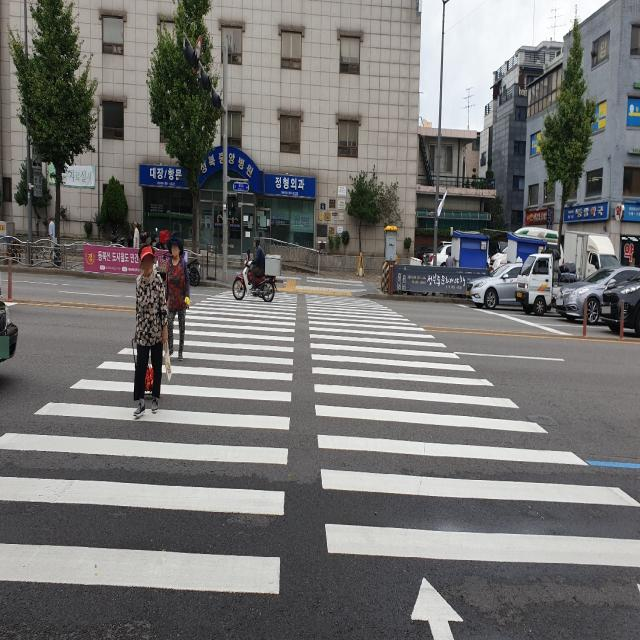횡단보도: (0, 288, 640, 640)
